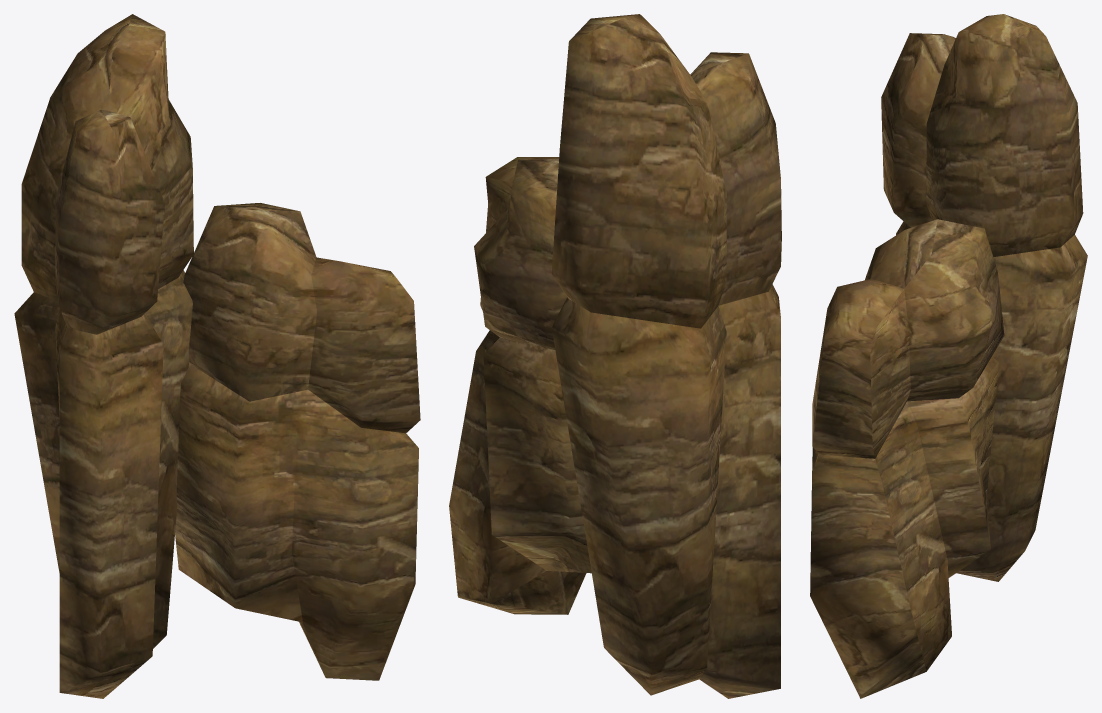
File: environment_stone_shanya_002_a08.FBX
The picture shows the model from 3 angles, left to right: view 1: azimuth 30°, elevation 25°; view 2: azimuth 150°, elevation 25°; view 3: azimuth 270°, elevation 25°; orthographic projection. The views are drawn at different scales.
Parts seen in each view (by area): view 1: environment_stone_shanya_002_a08; view 2: environment_stone_shanya_002_a08; view 3: environment_stone_shanya_002_a08.
Part boxes in pixels (x1,y1,x2,y2): environment_stone_shanya_002_a08: [14, 14, 420, 698]; environment_stone_shanya_002_a08: [449, 14, 781, 698]; environment_stone_shanya_002_a08: [810, 14, 1087, 698].
Bounding box in the file's own units: 570 × 1112 × 463.
